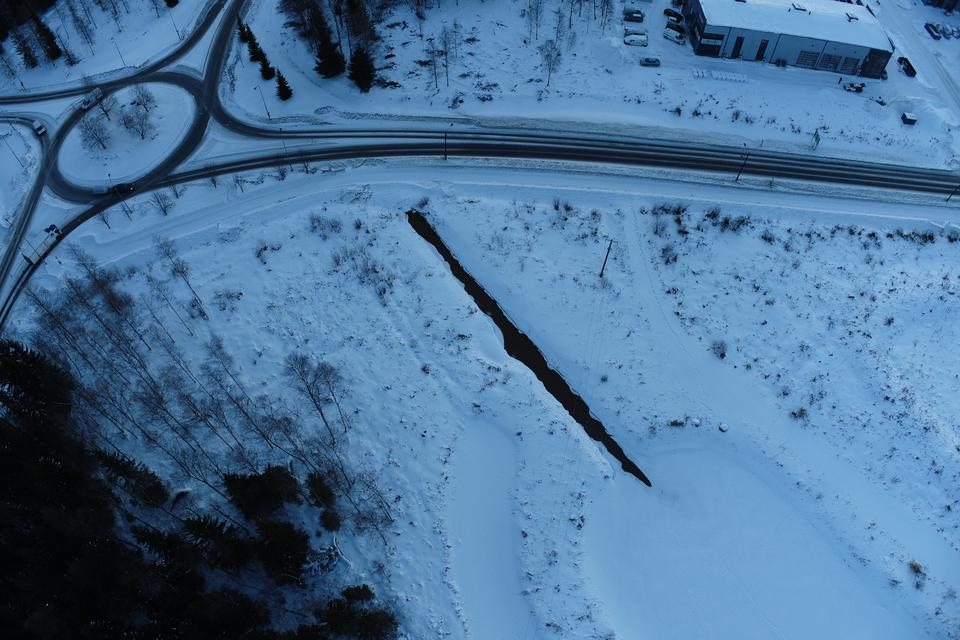roundabout: (16, 33, 239, 227)
